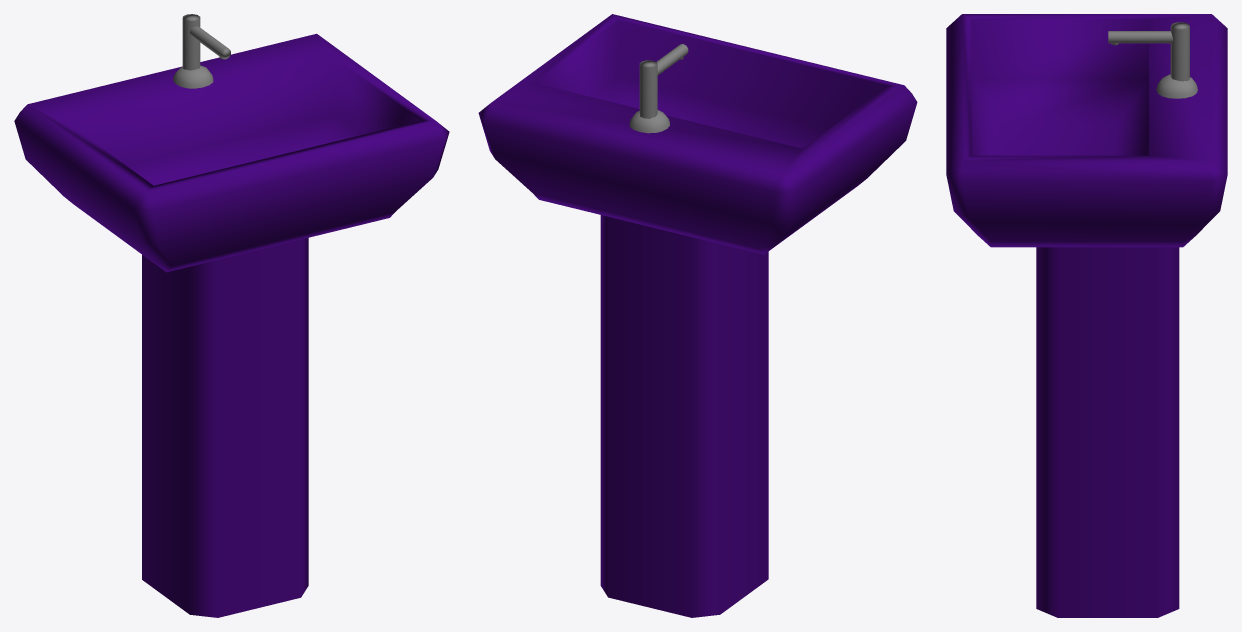
File: sink.fbx
The picture shows the model from 3 angles, left to right: view 1: azimuth 30°, elevation 25°; view 2: azimuth 150°, elevation 25°; view 3: azimuth 270°, elevation 25°; orthographic projection. The views are drawn at different scales.
Visible parts, largest first — view 1: Sink; view 2: Sink; view 3: Sink.
Part boxes in pixels (left/top/right/bottom): Sink: left=14, top=14, right=449, bottom=617; Sink: left=478, top=14, right=917, bottom=617; Sink: left=946, top=14, right=1227, bottom=617.
Bounding box in the file's own units: 594 × 970 × 440.
